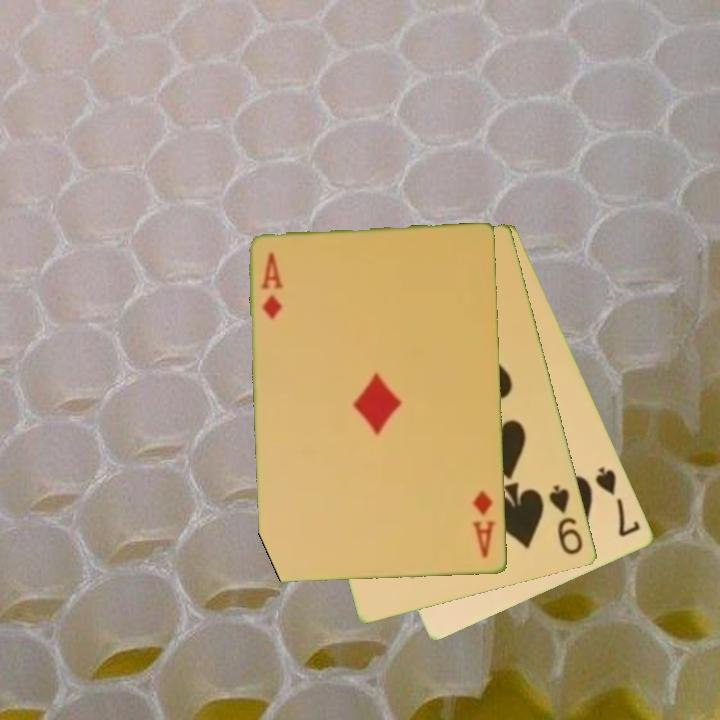7s: (592, 463, 644, 540)
9s: (546, 482, 587, 558)
Ad: (470, 487, 499, 561), (257, 249, 286, 323)
